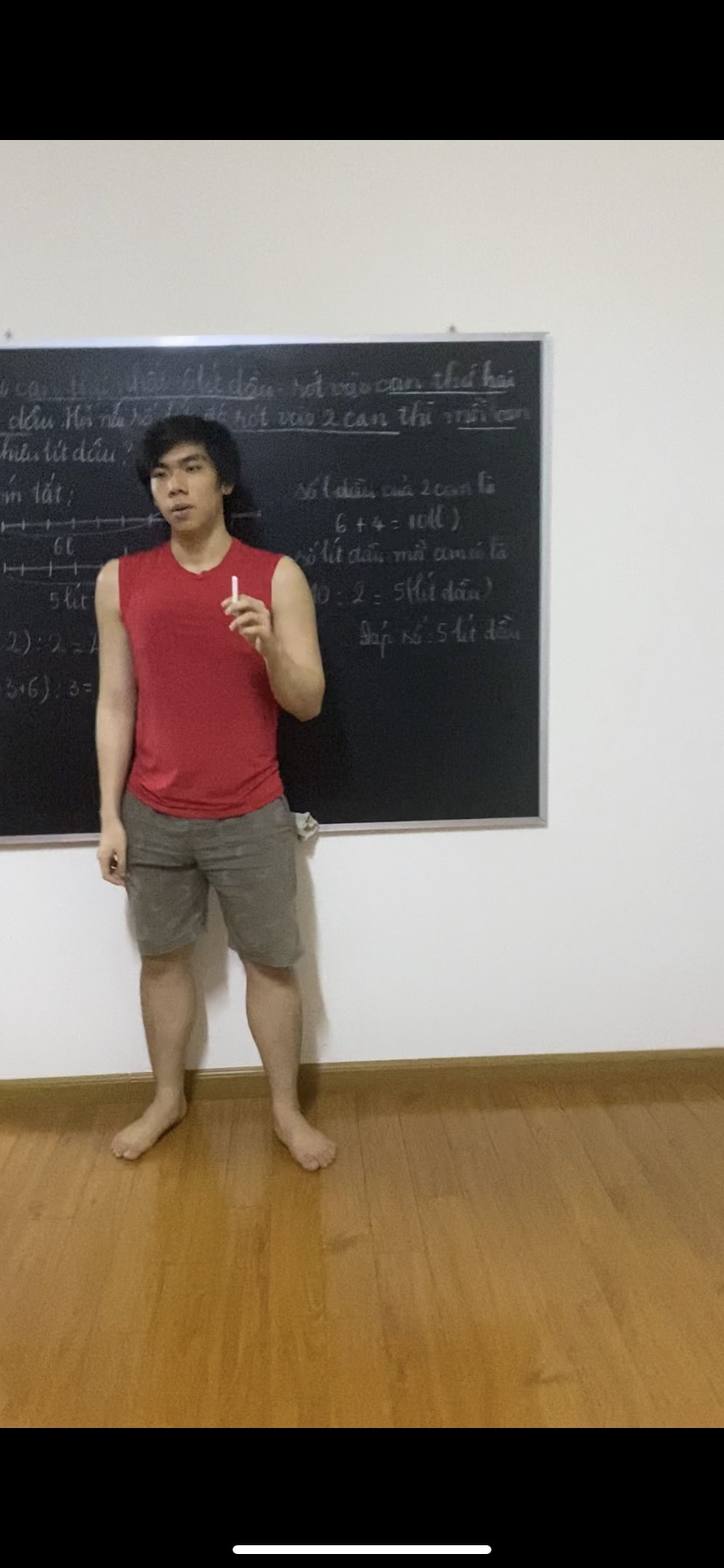cigarette: (225, 573, 244, 599)
person: (93, 394, 343, 1198)
